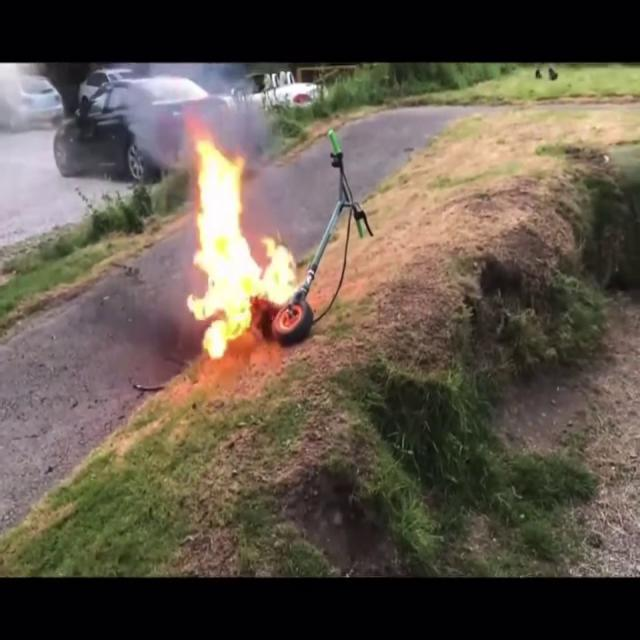Fire: (182, 111, 304, 358)
